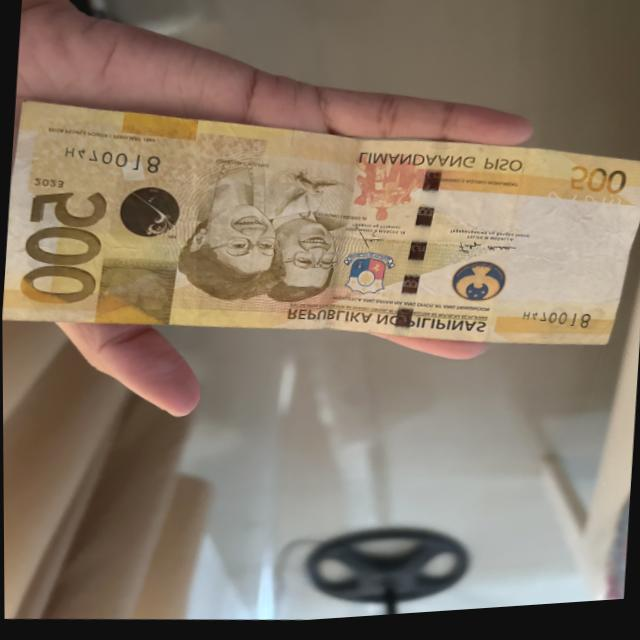concealed_value: (94, 254, 176, 330)
optically_variable_device: (117, 186, 180, 243)
see_through_mark: (539, 193, 627, 224)
value: (16, 185, 118, 319)
watermark: (504, 215, 637, 321)
